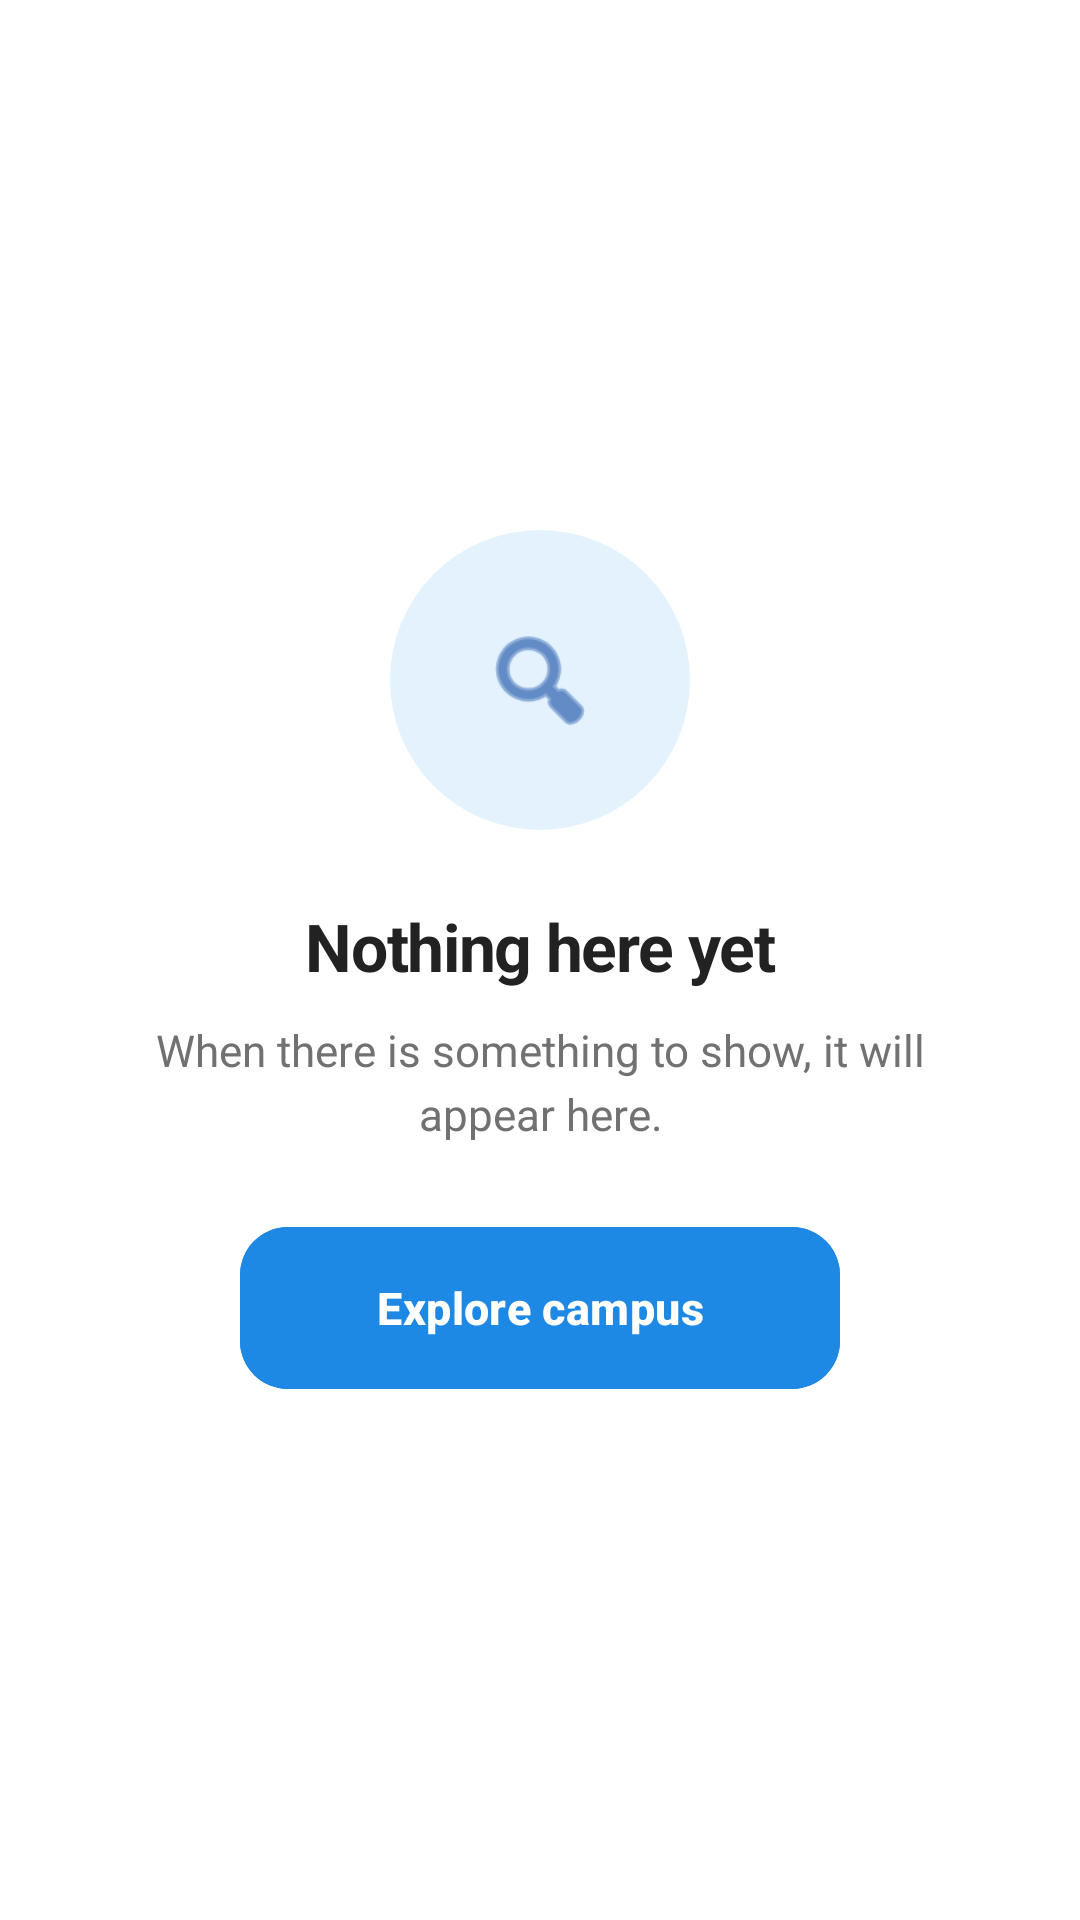

Where icons sit on this 1080w x 1920h app screen, as {"left": x1, "top": y1, "right": x2, "bottom": y2}:
Empty State Graphic: {"left": 496, "top": 636, "right": 584, "bottom": 725}
